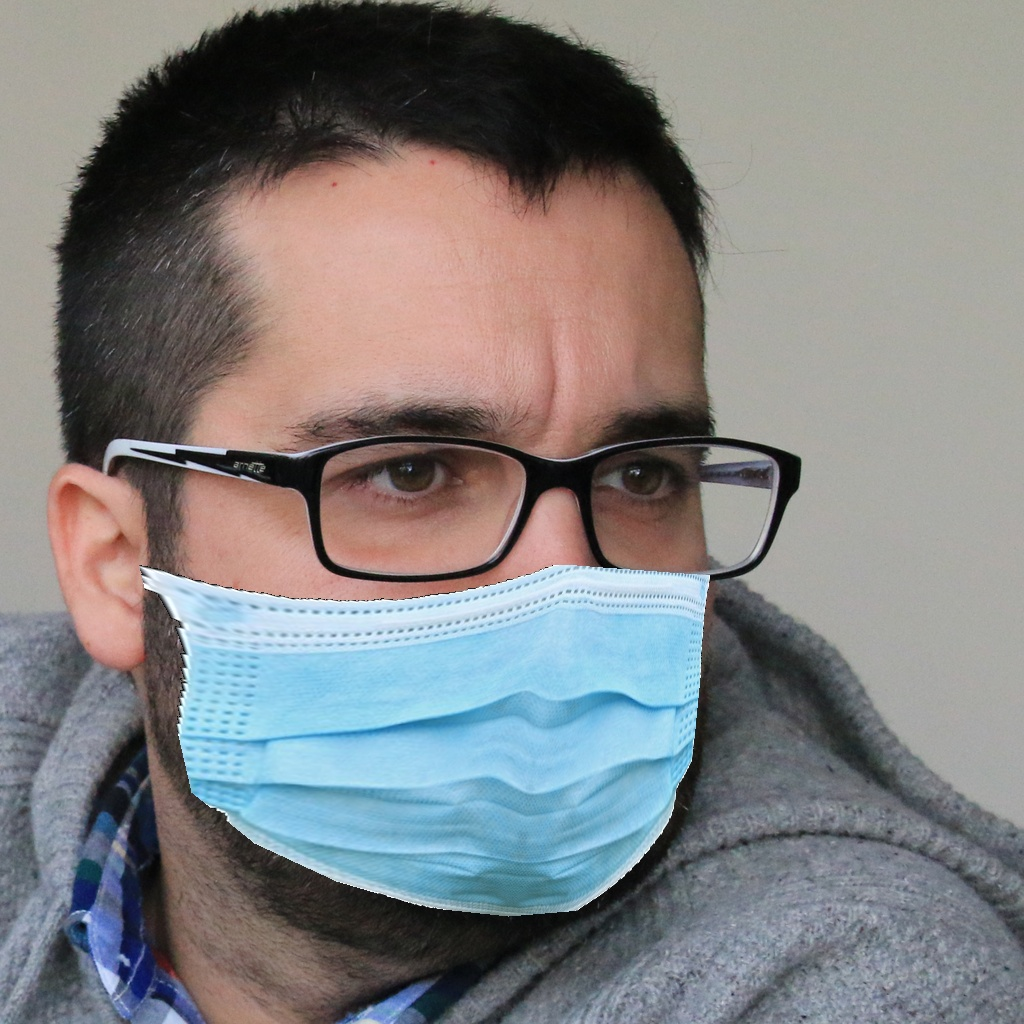Mask: (142, 328, 714, 925)
